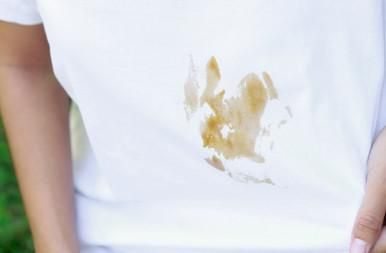gun: (181, 54, 293, 189)
